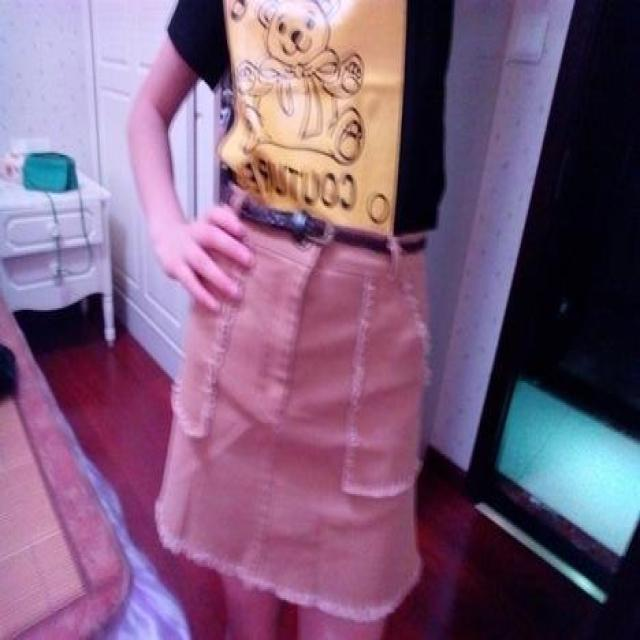short sleeve top: (168, 0, 454, 232)
skirt: (153, 182, 425, 598)
